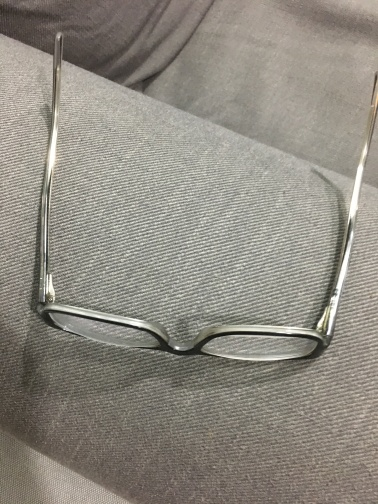glasses: (37, 254, 356, 382)
